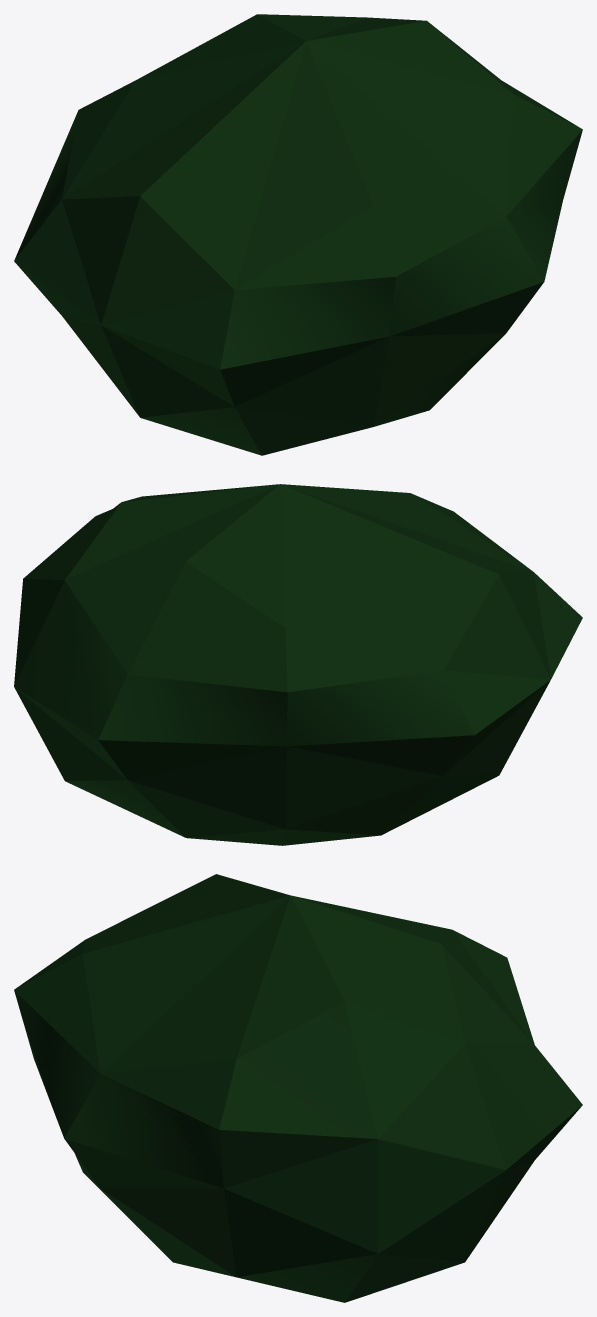
Rendered from DarkGreenBush_v2.fbx.
3 views of the same model, one above another, from view 1: azimuth 30°, elevation 25°; view 2: azimuth 150°, elevation 25°; view 3: azimuth 270°, elevation 25° (orthographic). The views are drawn at different scales.
Visible parts, largest first — view 1: pSphere9; view 2: pSphere9; view 3: pSphere9.
Part boxes in pixels (bbox=[...]): pSphere9: bbox=[14, 14, 582, 455]; pSphere9: bbox=[14, 484, 582, 845]; pSphere9: bbox=[14, 874, 582, 1302].
Size of the model in its own units: 0.0665 by 0.0485 by 0.0673.
